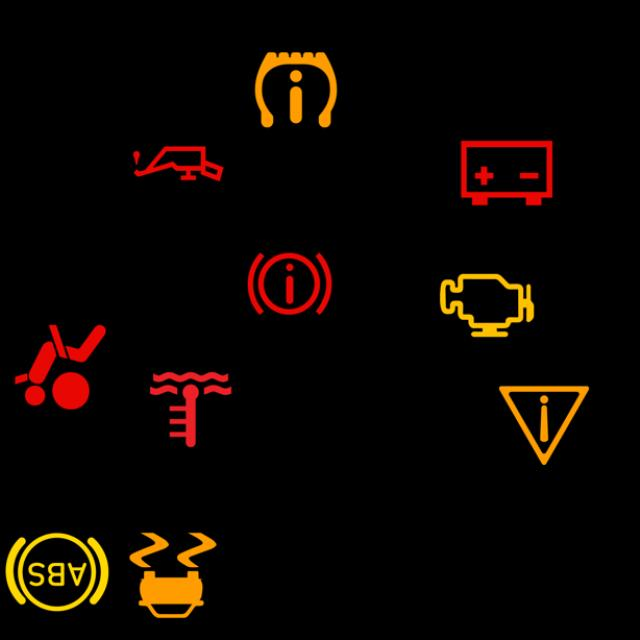Anti Lock Braking System: (1, 516, 112, 628)
Braking System Issue: (232, 228, 344, 340)
Charging System Issue: (449, 117, 562, 229)
Check Engine: (429, 250, 542, 362)
Electronic Stability Problem -ESP-: (116, 519, 228, 632)
Engine Overheating Warning Light: (134, 354, 245, 466)
Low Engine Oil Warning Light: (121, 108, 233, 220)
Low Tire Pressure Warning Light: (239, 34, 351, 146)
Master warning light: (487, 369, 599, 482)
SRS-Airbag: (4, 311, 116, 423)
